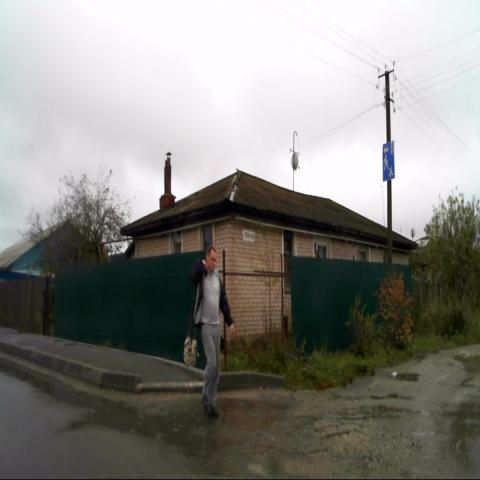5_21: (382, 140, 395, 181)
